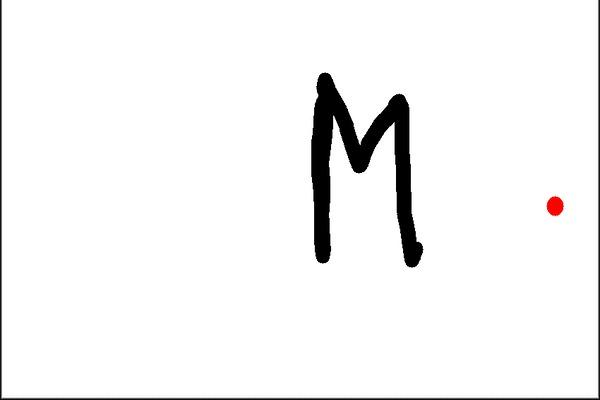M: (305, 68, 422, 267)
